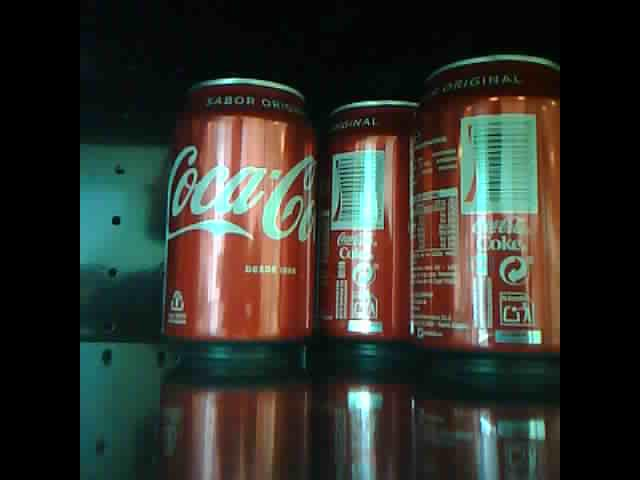coca cola: (417, 50, 558, 366), (165, 72, 312, 360), (317, 94, 416, 355)
